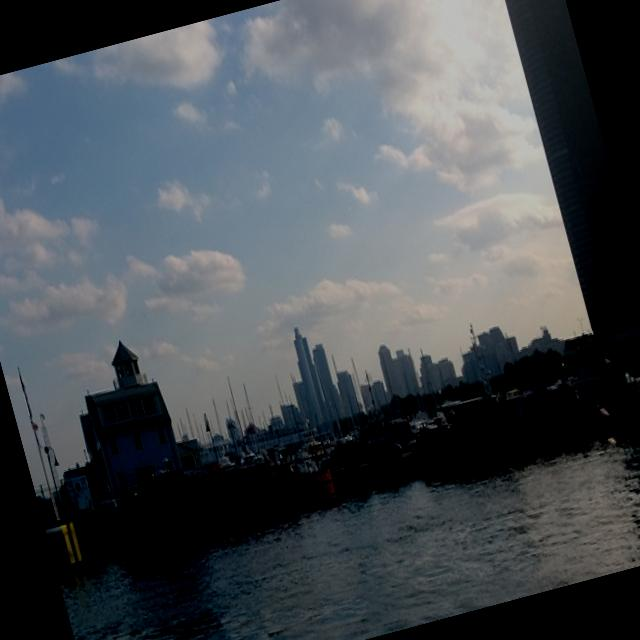Vehicle: (364, 432, 406, 464), (324, 441, 363, 475), (414, 419, 456, 450), (96, 488, 120, 515), (126, 482, 141, 501), (118, 489, 132, 508), (406, 438, 419, 456)
